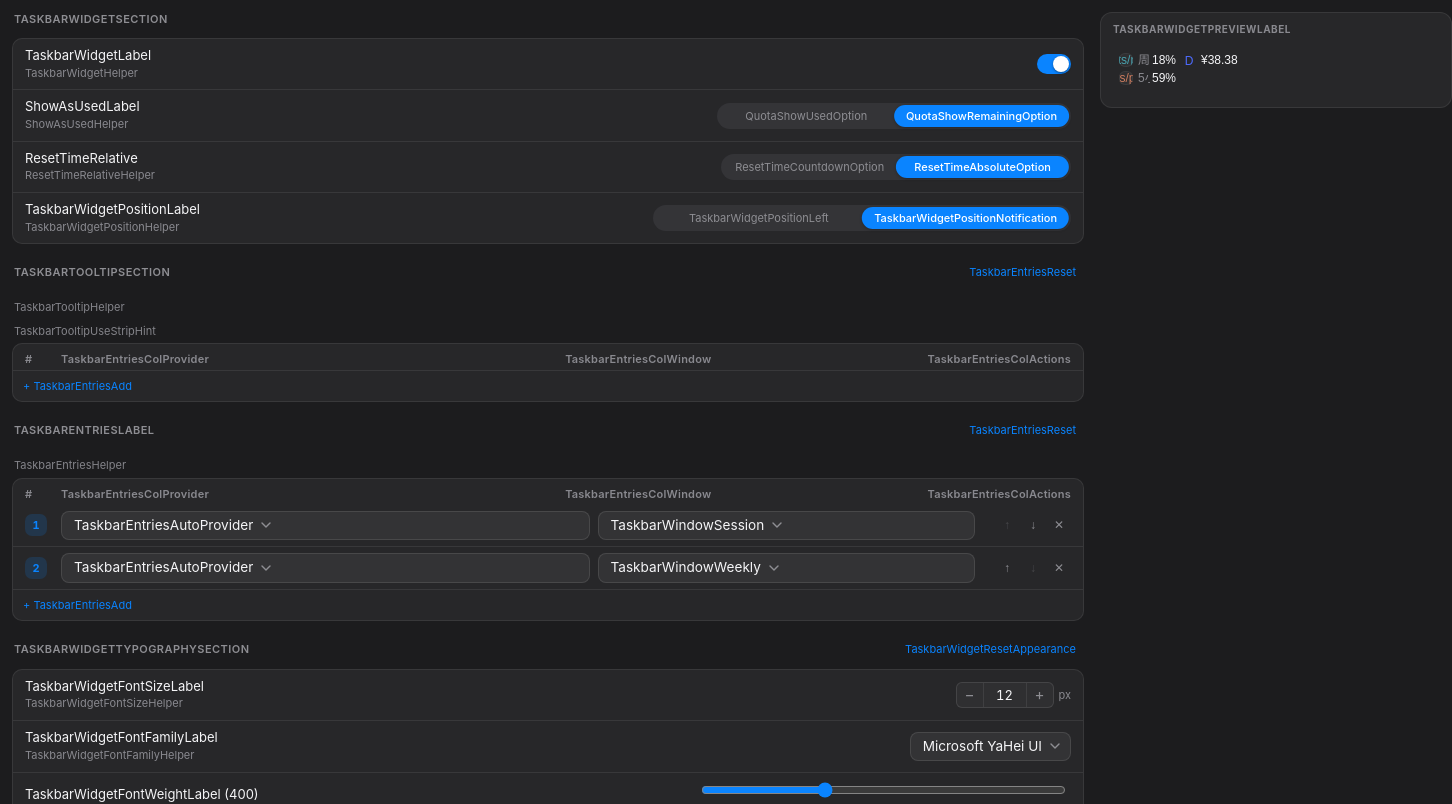
TaskbarTab › lists only the five confirmed design-system families
Click the button "Microsoft YaHei UI" at (990, 746), box [910, 732, 1071, 761]
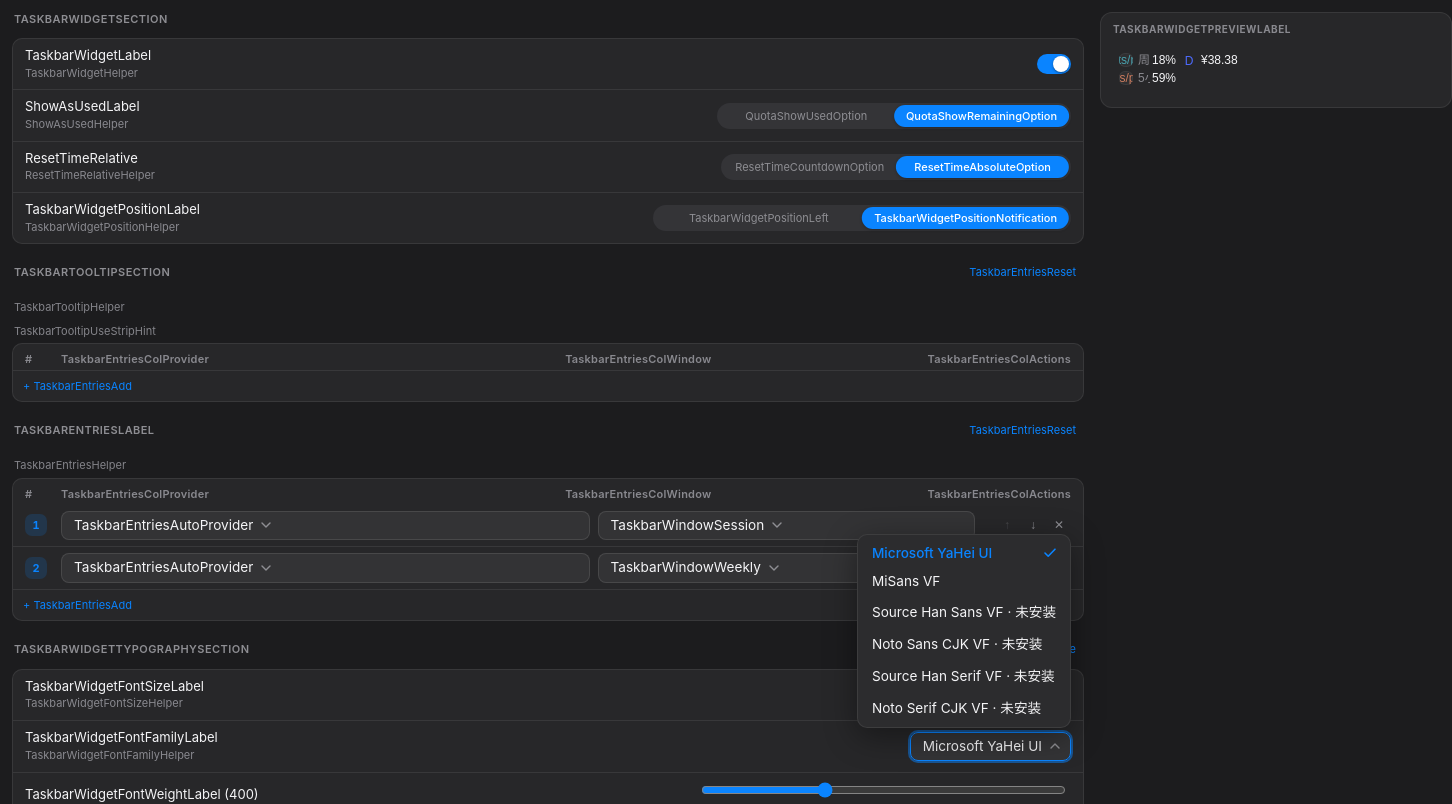
Now the option "Microsoft YaHei UI" is shown, box [862, 539, 1066, 567]
Now the option "MiSans VF" is shown, box [862, 567, 1066, 595]
Now the option "Source Han Sans VF · 未安装" is shown, box [862, 595, 1066, 627]
